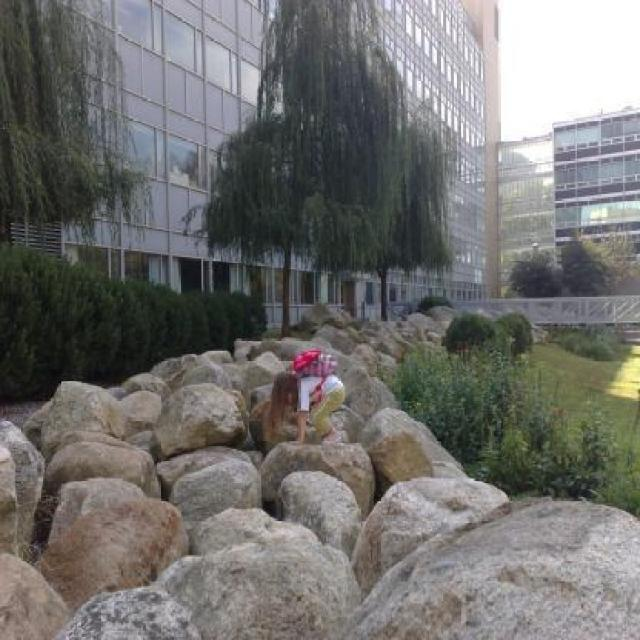Person: (281, 336, 345, 447)
